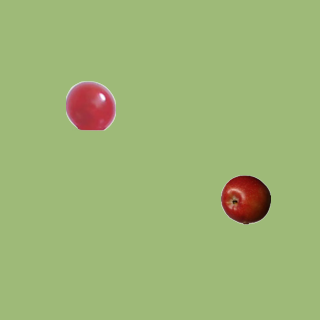Apple Braeburn: (220, 174, 270, 224)
Redcurrant: (65, 80, 115, 130)
